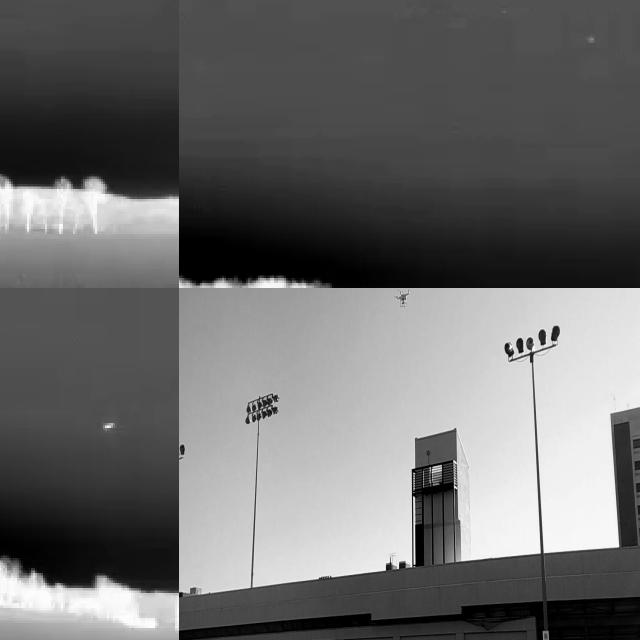0: (582, 30, 600, 50)
1: (86, 408, 132, 456)
drone: (393, 288, 416, 311)
